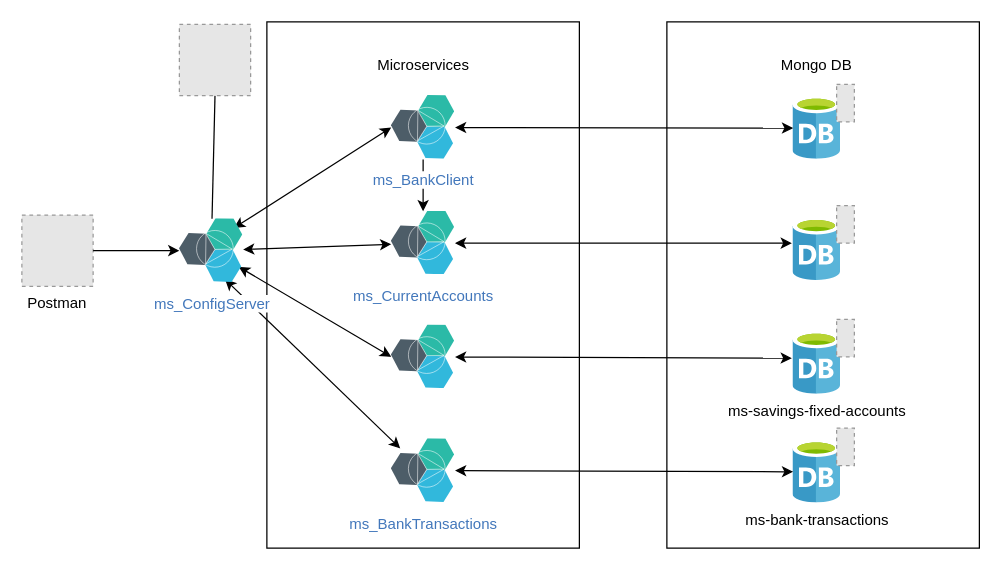
The diagram is 1001 pixels wide and 570 high, and some of its shapes have lost their labels. Grey dashed boxes stand in for pictures. Each missing label, with the box of its shape:
ms-client: (792, 96, 840, 159)
ms-current-accounts: (792, 218, 840, 280)
ms_SavingsFixedAccounts: (391, 324, 454, 388)
